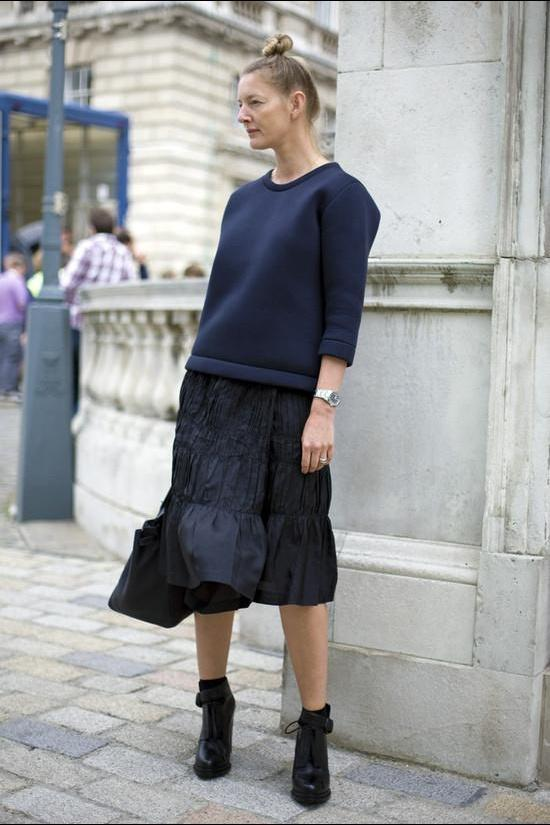Tshirt: (157, 160, 382, 392)
skirt: (166, 366, 336, 606)
